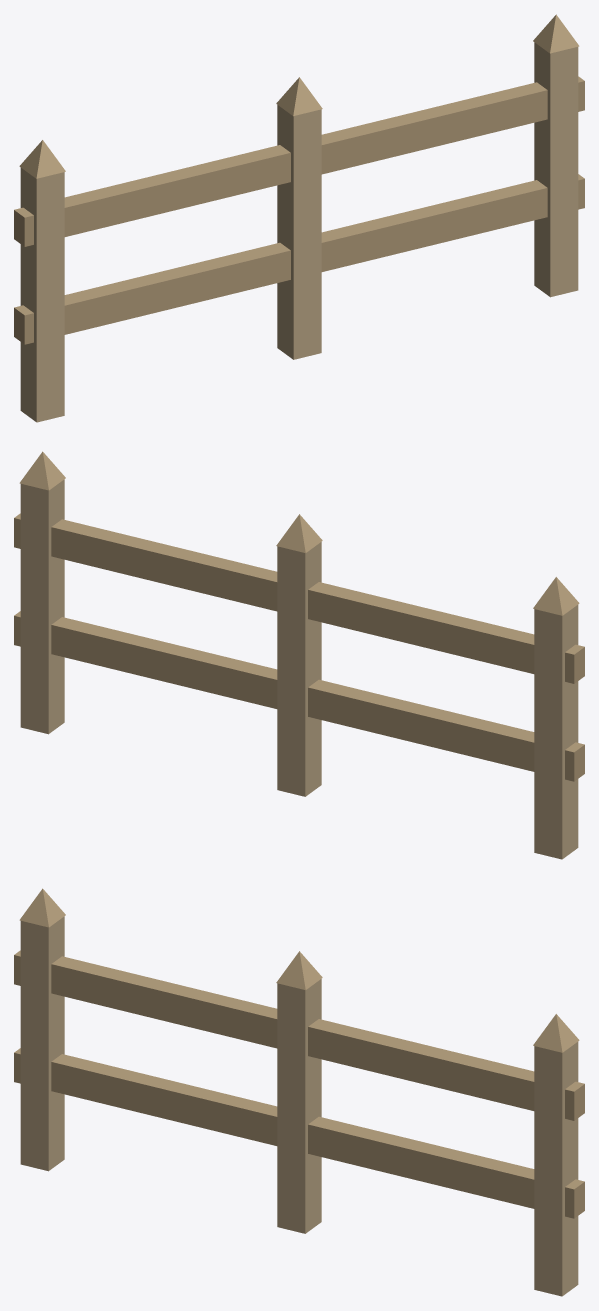
File: fence.glb
The picture shows the model from 3 angles, top to bottom: view 1: azimuth 30°, elevation 25°; view 2: azimuth 150°, elevation 25°; view 3: azimuth 330°, elevation 25°; orthographic projection.
Visible parts, largest first — view 1: Fence_Rail_Top, Fence_Rail_Bottom, Fence_Post_3, Fence_Post_1, Fence_Post_2, Fence_PostTop_1, Fence_PostTop_2, Fence_PostTop_3; view 2: Fence_Rail_Top, Fence_Rail_Bottom, Fence_Post_3, Fence_Post_1, Fence_Post_2, Fence_PostTop_1, Fence_PostTop_2, Fence_PostTop_3; view 3: Fence_Rail_Top, Fence_Rail_Bottom, Fence_Post_1, Fence_Post_3, Fence_Post_2, Fence_PostTop_3, Fence_PostTop_1, Fence_PostTop_2.
Part boxes in pixels (<box>): Fence_Rail_Top: <box>14,76,584,246</box>; Fence_Rail_Bottom: <box>14,174,584,344</box>; Fence_Post_3: <box>534,42,578,297</box>; Fence_Post_1: <box>20,167,64,422</box>; Fence_Post_2: <box>277,105,321,359</box>; Fence_PostTop_1: <box>19,140,65,178</box>; Fence_PostTop_2: <box>276,77,322,116</box>; Fence_PostTop_3: <box>533,14,579,53</box>; Fence_Rail_Top: <box>14,513,584,683</box>; Fence_Rail_Bottom: <box>14,611,584,781</box>; Fence_Post_3: <box>20,479,64,734</box>; Fence_Post_1: <box>534,604,578,859</box>; Fence_Post_2: <box>277,542,321,796</box>; Fence_PostTop_1: <box>533,577,579,615</box>; Fence_PostTop_2: <box>276,514,322,553</box>; Fence_PostTop_3: <box>19,451,65,490</box>; Fence_Rail_Top: <box>14,950,584,1120</box>; Fence_Rail_Bottom: <box>14,1048,584,1218</box>; Fence_Post_1: <box>20,916,64,1171</box>; Fence_Post_3: <box>534,1041,578,1296</box>; Fence_Post_2: <box>277,979,321,1233</box>; Fence_PostTop_3: <box>533,1014,579,1052</box>; Fence_PostTop_1: <box>19,888,65,927</box>; Fence_PostTop_2: <box>276,951,322,990</box>.
Size of the model in its own units: 2.4 by 1.12 by 0.1273.
